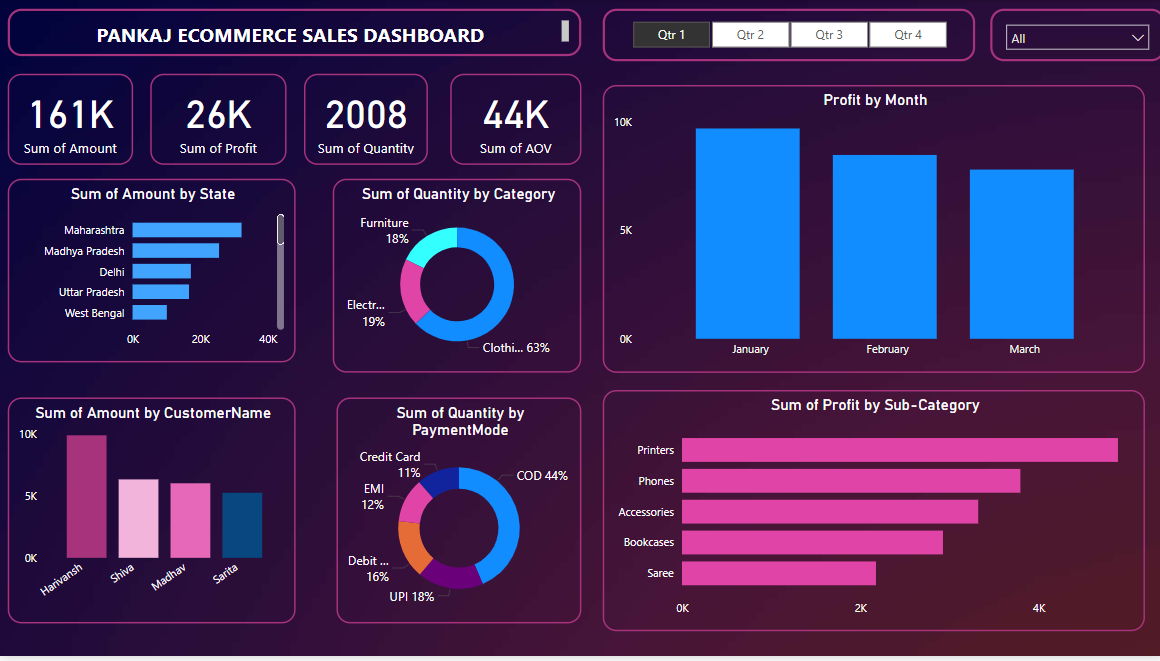

The page's visual inventory and layout, read from the dashboard file:
{"tool":"powerbi","page":{"name":"Page 1","canvas":[1280,720],"ordinal":0},"visuals":[{"type":"textbox","box":[9.6,9.6,629.8,52.1],"z":0},{"type":"columnChart","title":" Profit by Month","fields":{"Category":["Orders.Order Date.Variation.Date Hierarchy.Month"],"Y":["Sum(Details.Profit)"]},"box":[662.8,93.3,595.5,315.6],"z":1000},{"type":"barChart","fields":{"Category":["Details.Sub-Category"],"Y":["Sum(Details.Profit)"]},"box":[662.8,428.1,595.5,264.8],"z":2000},{"type":"donutChart","fields":{"Category":["Details.Category"],"Y":["Sum(Details.Quantity)"]},"box":[366.4,196.2,273.1,212.7],"z":3000},{"type":"donutChart","fields":{"Category":["Details.PaymentMode"],"Y":["Sum(Details.Quantity)"]},"box":[370.5,436.4,269,248.4],"z":4000},{"type":"card","fields":{"Values":["Sum(Details.Amount)"]},"box":[9.6,81,137.2,100.2],"z":5000},{"type":"card","fields":{"Values":["Sum(Details.Quantity)"]},"box":[334.8,81,135.8,100.2],"z":6000},{"type":"card","fields":{"Values":["Sum(Details.Profit)"]},"box":[166,81,149.6,100.2],"z":7000},{"type":"card","fields":{"Values":["Sum(Details.AOV)"]},"box":[495.4,81,144.1,100.2],"z":8000},{"type":"barChart","fields":{"Y":["Sum(Details.Amount)"],"Category":["Orders.State"]},"box":[9.6,196.2,315.6,201.7],"z":9000},{"type":"columnChart","fields":{"Category":["Orders.CustomerName"],"Y":["Sum(Details.Amount)"]},"box":[10,436,316,248],"z":10000},{"type":"slicer","fields":{"Values":["Orders.Order Date.Variation.Date Hierarchy.Quarter"]},"box":[662.8,9.6,408.9,57.6],"z":11000},{"type":"slicer","fields":{"Values":["Orders.State"]},"box":[1088.2,9.6,192.1,57.6],"z":12000}]}

Visuals, with their boxes in screenshot pixels (x1, y1, x2, y2), scaled from the page's 1280x720 canvas onto the 1160x661 screenshot:
textbox: 9, 9, 579, 57
" Profit by Month" columnChart: 601, 86, 1140, 375
barChart - Details.Sub-Category x Sum(Details.Profit): 601, 393, 1140, 636
donutChart - Details.Category x Sum(Details.Quantity): 332, 180, 580, 375
donutChart - Details.PaymentMode x Sum(Details.Quantity): 336, 401, 580, 629
card - Sum(Details.Amount): 9, 74, 133, 166
card - Sum(Details.Quantity): 303, 74, 426, 166
card - Sum(Details.Profit): 150, 74, 286, 166
card - Sum(Details.AOV): 449, 74, 580, 166
barChart - Sum(Details.Amount) x Orders.State: 9, 180, 295, 365
columnChart - Orders.CustomerName x Sum(Details.Amount): 9, 400, 295, 628
slicer - Orders.Order Date.Variation.Date Hierarchy.Quarter: 601, 9, 971, 62
slicer - Orders.State: 986, 9, 1159, 62
